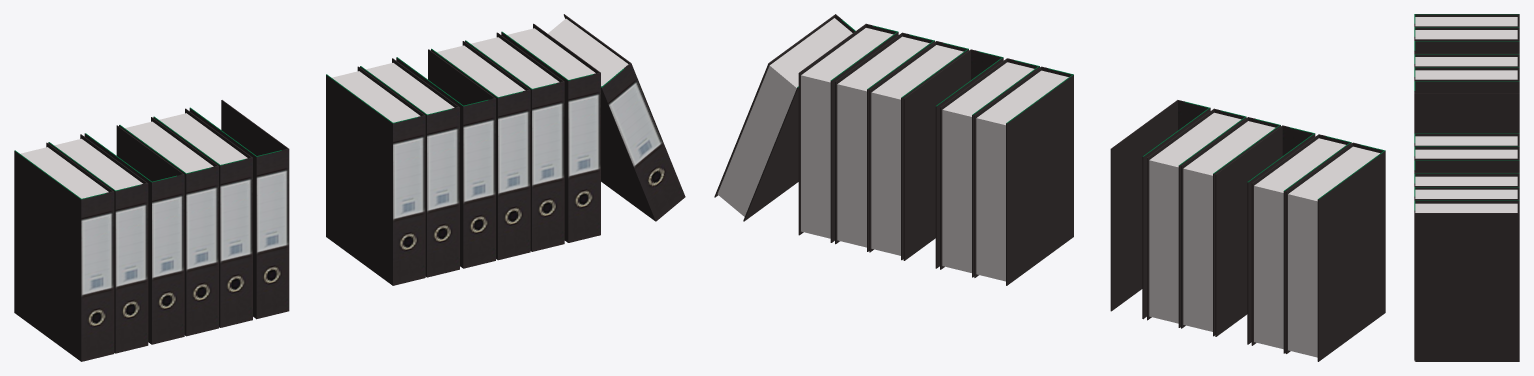
The model's file is Files 1.FBX.
The picture shows the model from 3 angles, left to right: view 1: azimuth 30°, elevation 25°; view 2: azimuth 150°, elevation 25°; view 3: azimuth 270°, elevation 25°; orthographic projection. The views are drawn at different scales.
Visible parts, largest first — view 1: Files 1; view 2: Files 1; view 3: Files 1.
Part boxes in pixels (x1=…): Files 1: x1=14, y1=14, x2=685, y2=361; Files 1: x1=714, y1=14, x2=1385, y2=361; Files 1: x1=1414, y1=14, x2=1519, y2=361.
Size of the model in its own units: 94.05 by 24.49 by 18.11.
Materials: 1 (1 with a texture image).
